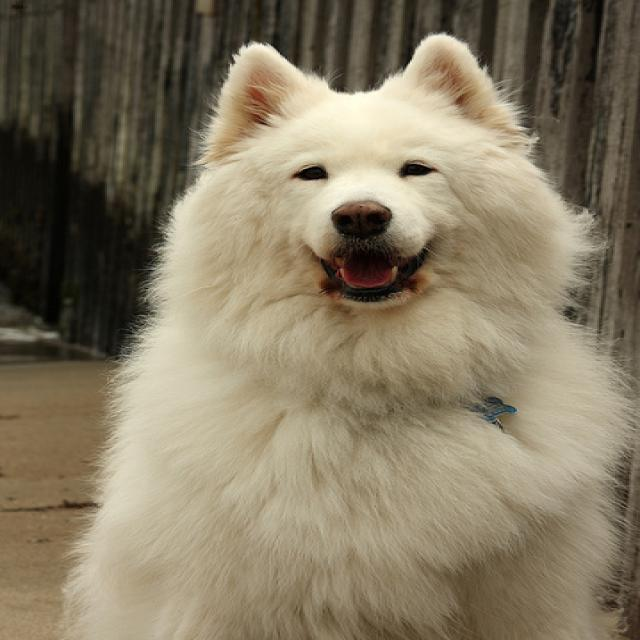dog-samoyed: (50, 23, 636, 637)
